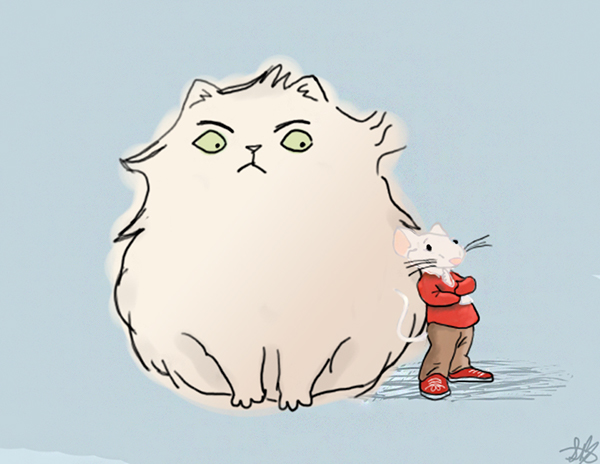cat: (90, 70, 463, 423)
